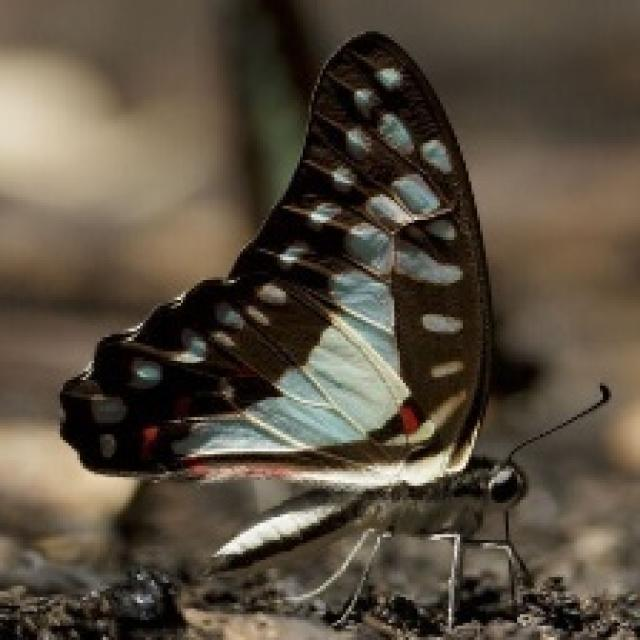butterfly: (54, 26, 612, 631)
